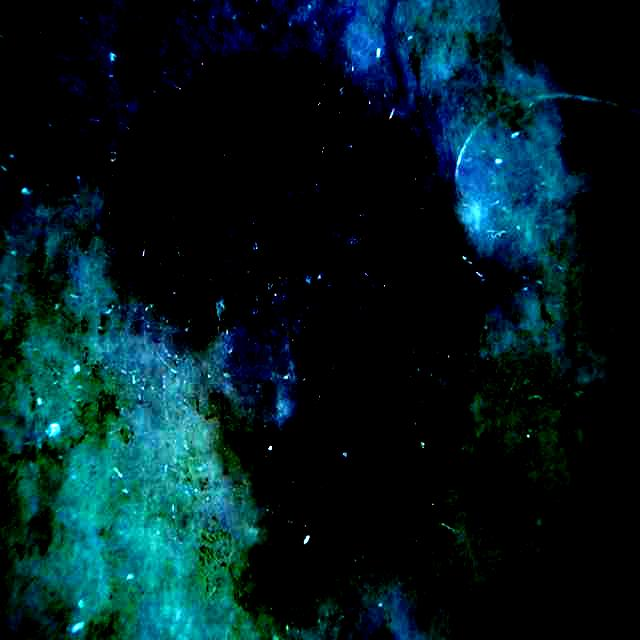BKL: (126, 61, 467, 560)
